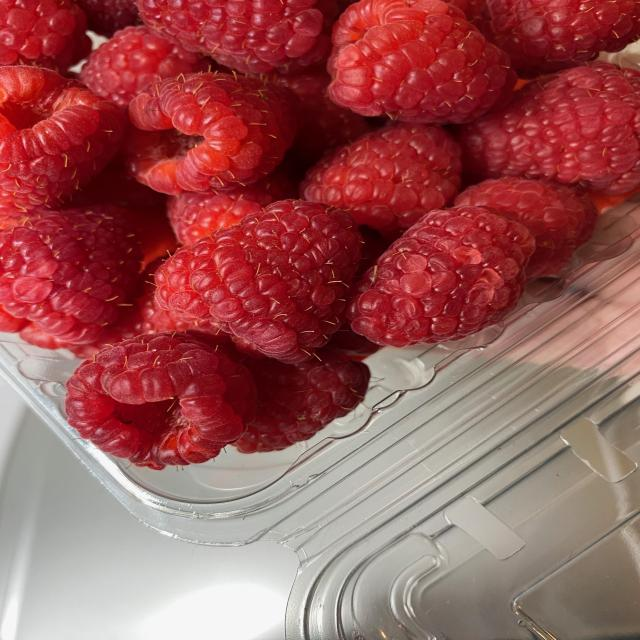raspberries: (7, 6, 633, 450)
